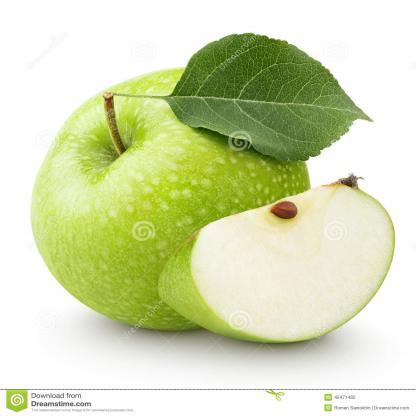apple leaf: (161, 24, 377, 168)
